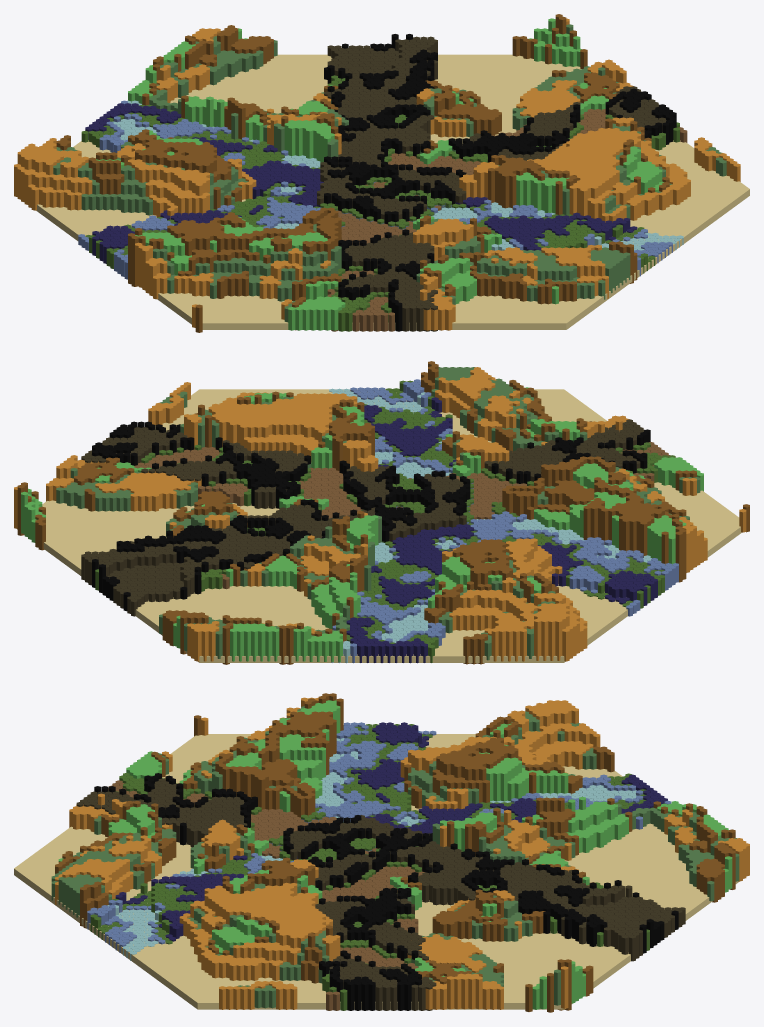
File: 0056_tile_1100110.fbx
3 renders of one model, top to bottom at view 1: azimuth 30°, elevation 25°; view 2: azimuth 150°, elevation 25°; view 3: azimuth 270°, elevation 25°, orthographic.
Visible parts, largest first — view 1: Plane; view 2: Plane; view 3: Plane.
Boxes of the visible parts, x1=… form: Plane: x1=14, y1=14, x2=749, y2=332; Plane: x1=14, y1=361, x2=749, y2=664; Plane: x1=14, y1=693, x2=749, y2=1012.
Bounding box in the file's own units: 1008 × 82.8 × 1152.
